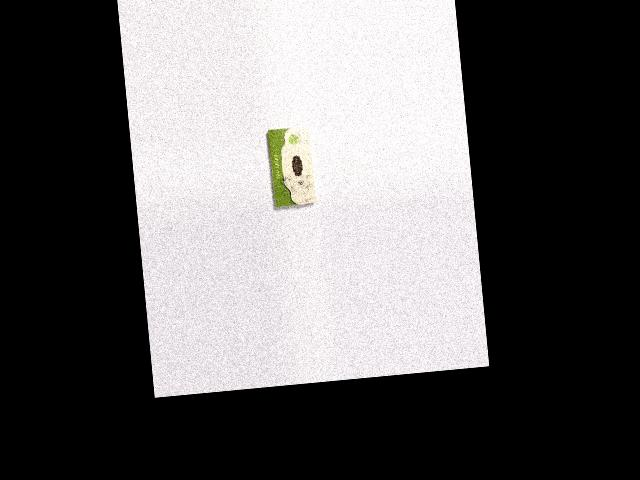chocolate: (266, 125, 317, 208)
